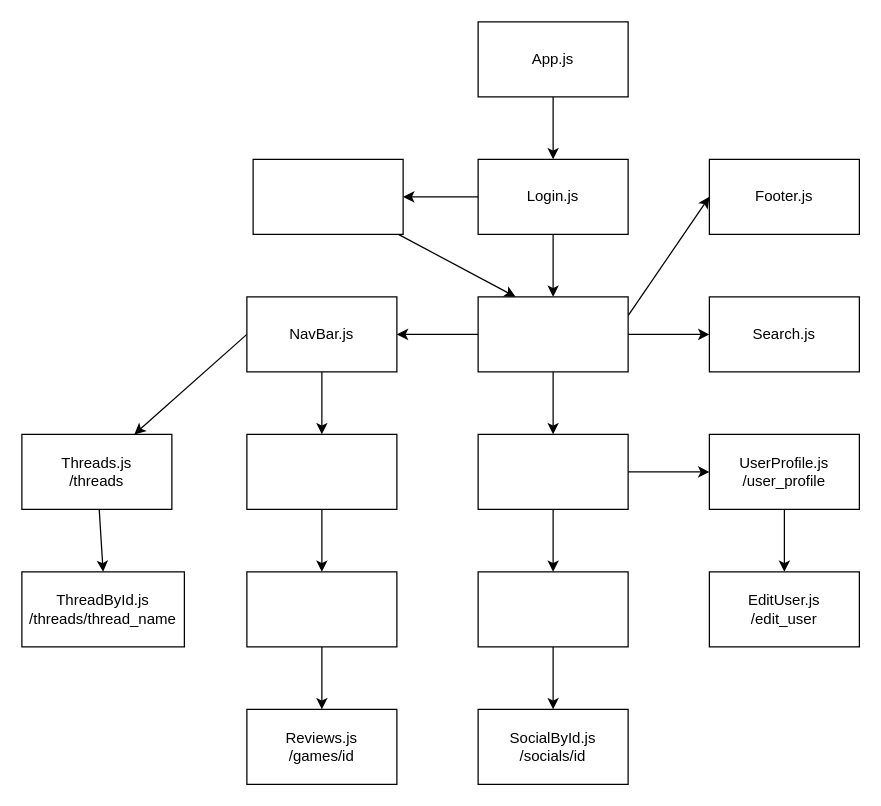
This 881x806 diagram has some shape labels left out. Each missing label, with the centre of its shape:
"CreateUser.js /create_user" goes at [327,196].
"GameById.js /games/id" goes at [321,609].
"Games.js /games" goes at [321,471].
"HomeFeed.js /home" goes at [552,334].
"SideNav.js" goes at [552,471].
"Social.js /socials" goes at [552,609].
